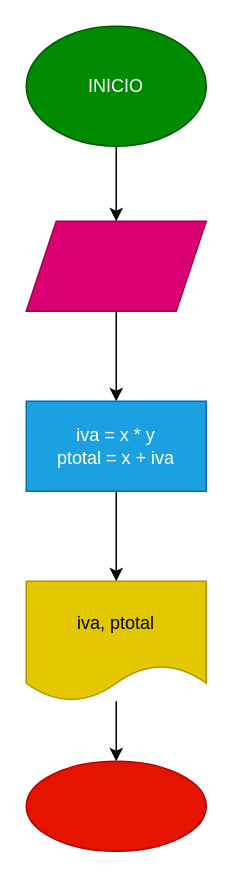
This 233x878 diagram has some shape labels left out. Here are the shapes that lost their labels. From the top down, the centre of each, then its label:
At pixel 115 265: "x, y".
At pixel 115 805: "FIN".
